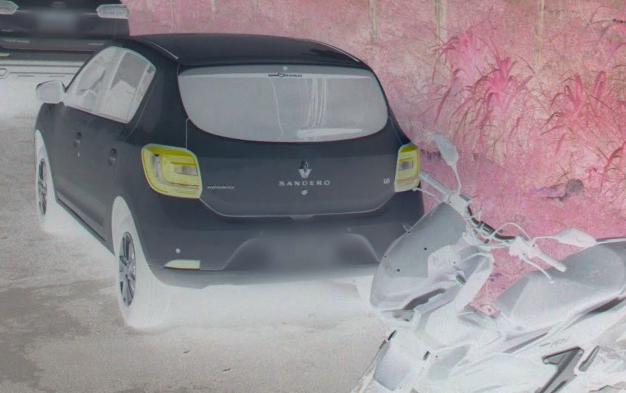car: (32, 33, 390, 337)
